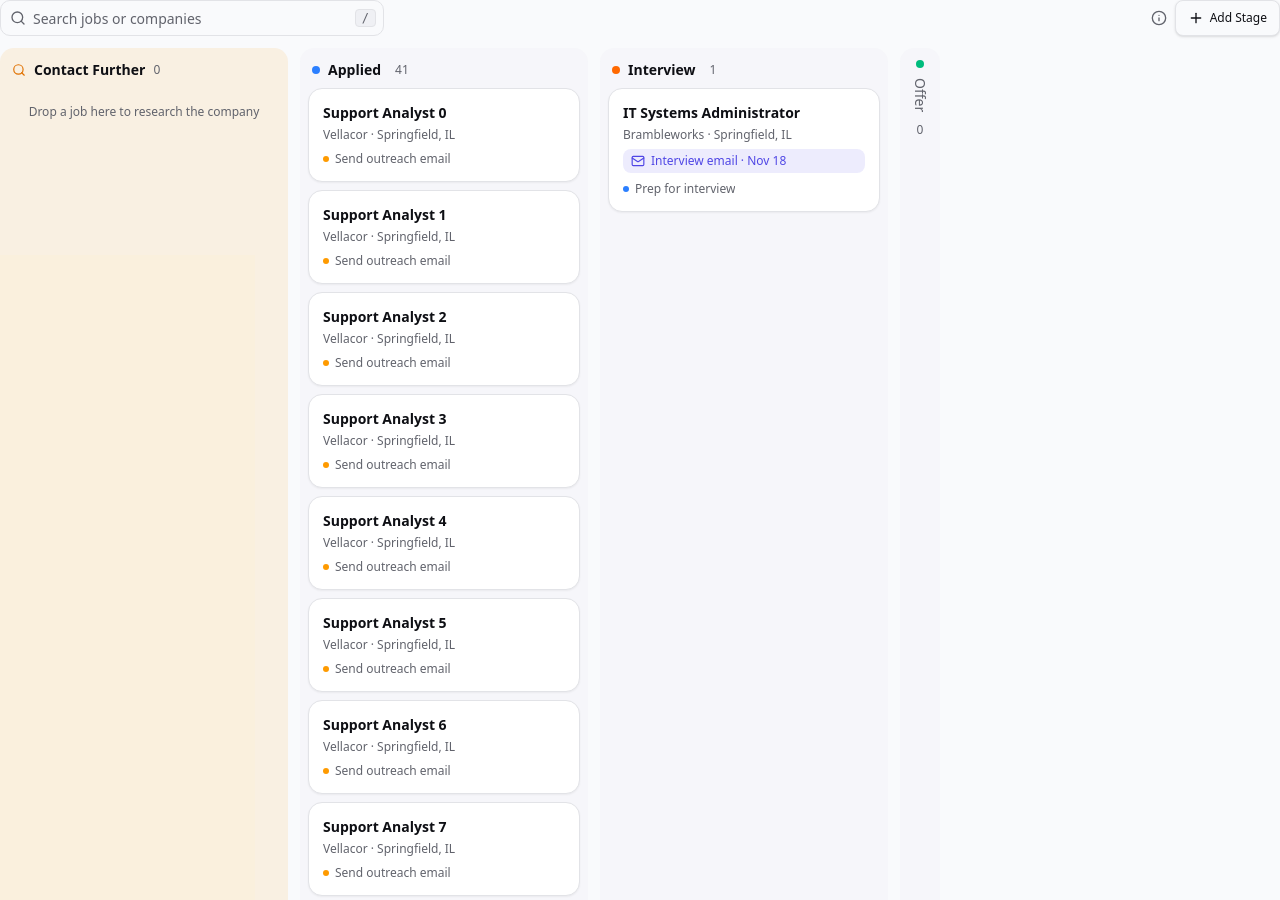
Test: KanbanBoard › shows the email behind a job's stage on its card, and opens it from there
What coordinates should you click on to do the following:
click the button "Interview email · Nov 18"
I would click on:
 (744, 161)
Its box is left=623, top=149, right=865, bottom=173.
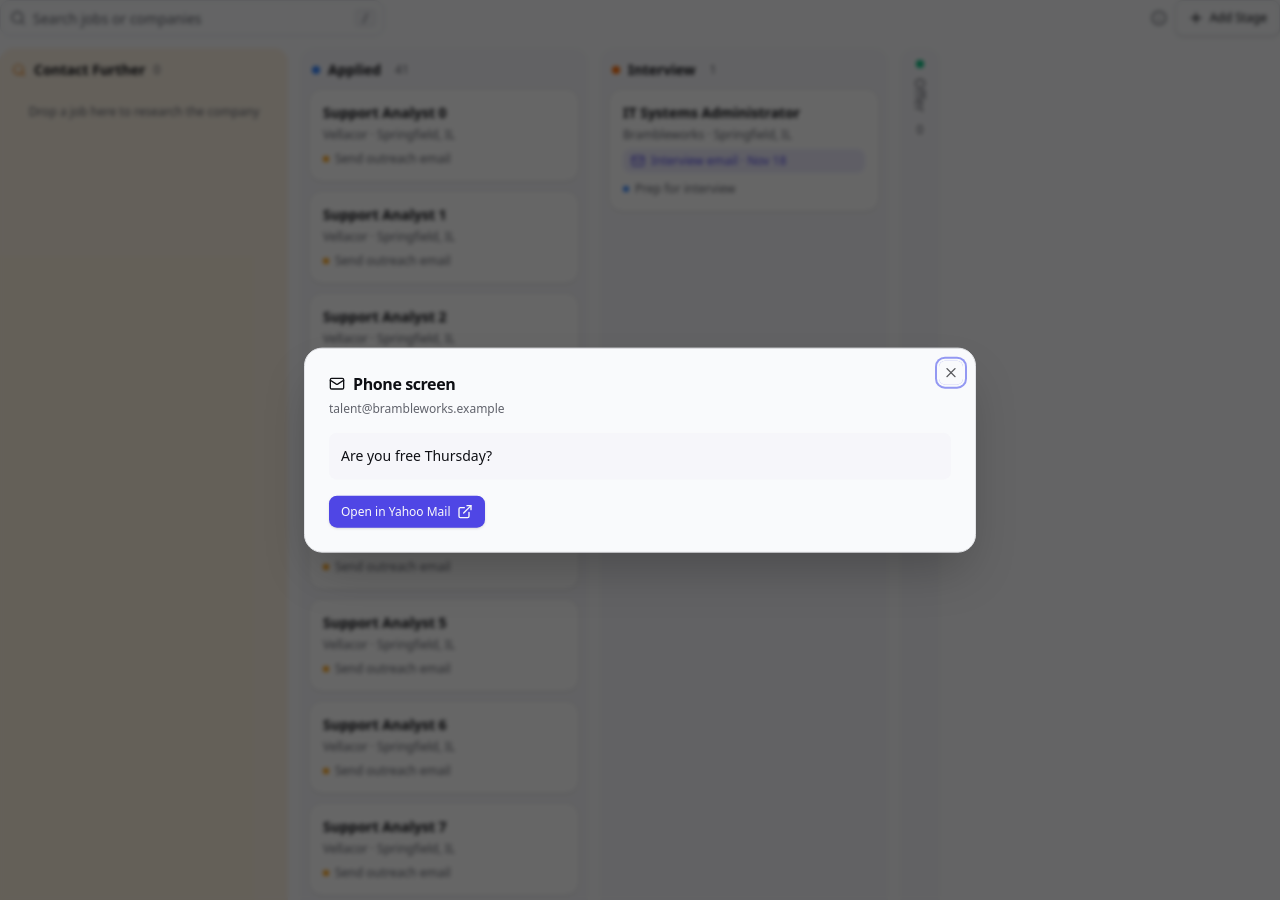
Check: the text "Are you free Thursday?" is shown, box left=329, top=433, right=951, bottom=479
Check: the link "Open in Yahoo Mail" is shown, box left=329, top=495, right=484, bottom=527
Check: the number of dialogs is 1, box left=304, top=348, right=976, bottom=552
